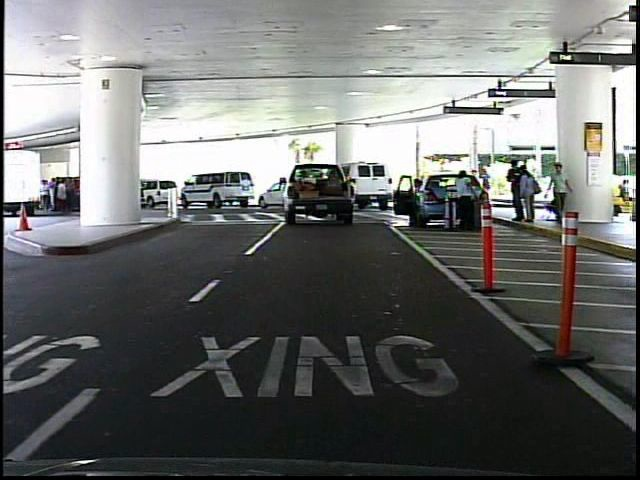person: (449, 165, 479, 235), (545, 159, 570, 227)
